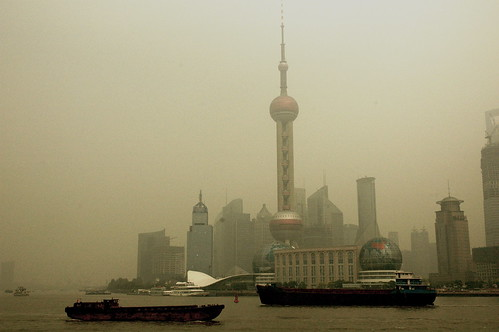boat: (250, 279, 445, 308), (58, 296, 230, 325)
building: (263, 7, 303, 258), (213, 201, 255, 281), (273, 244, 364, 280), (434, 195, 471, 283), (133, 230, 187, 277), (183, 198, 215, 277), (306, 180, 342, 246), (355, 171, 381, 241)
river: (10, 290, 499, 332)
sky: (5, 1, 253, 250), (316, 1, 499, 179)
